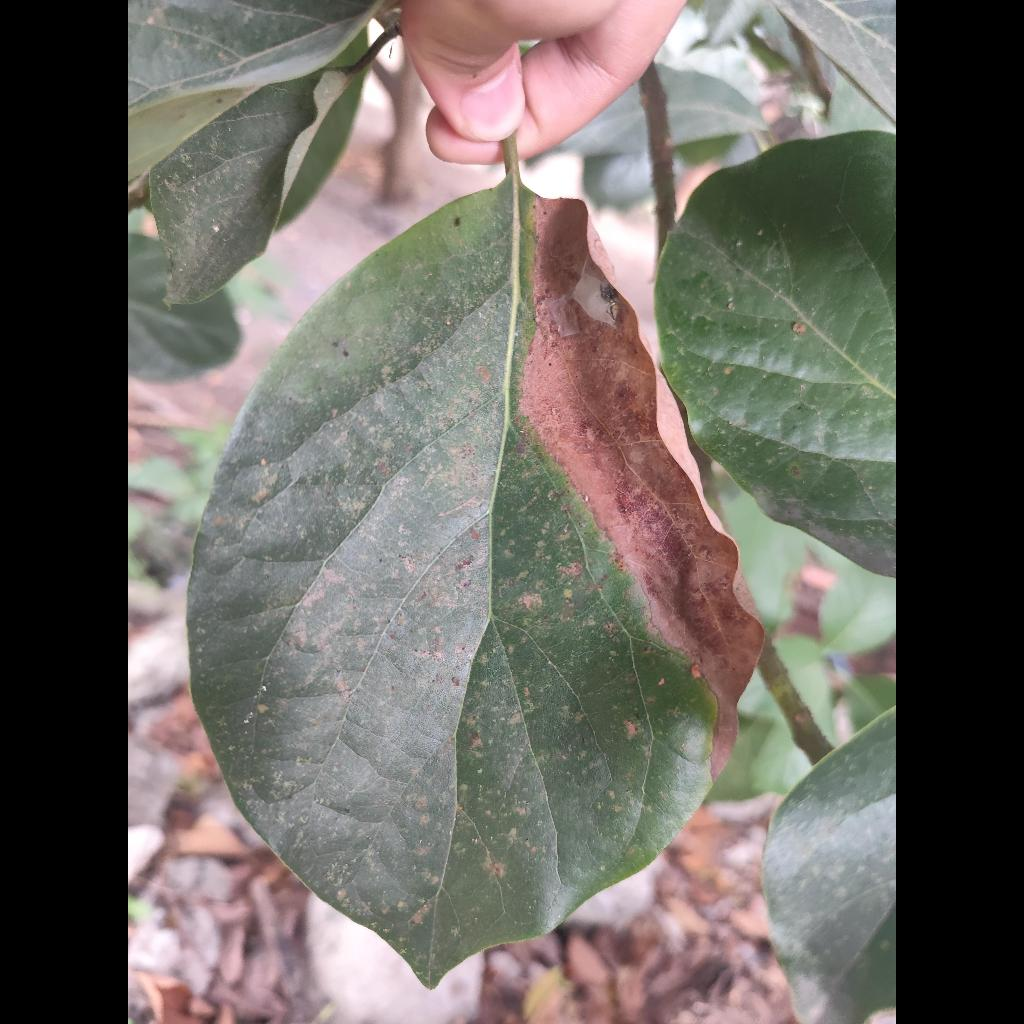antracnosis_hoja: (187, 175, 762, 986)
